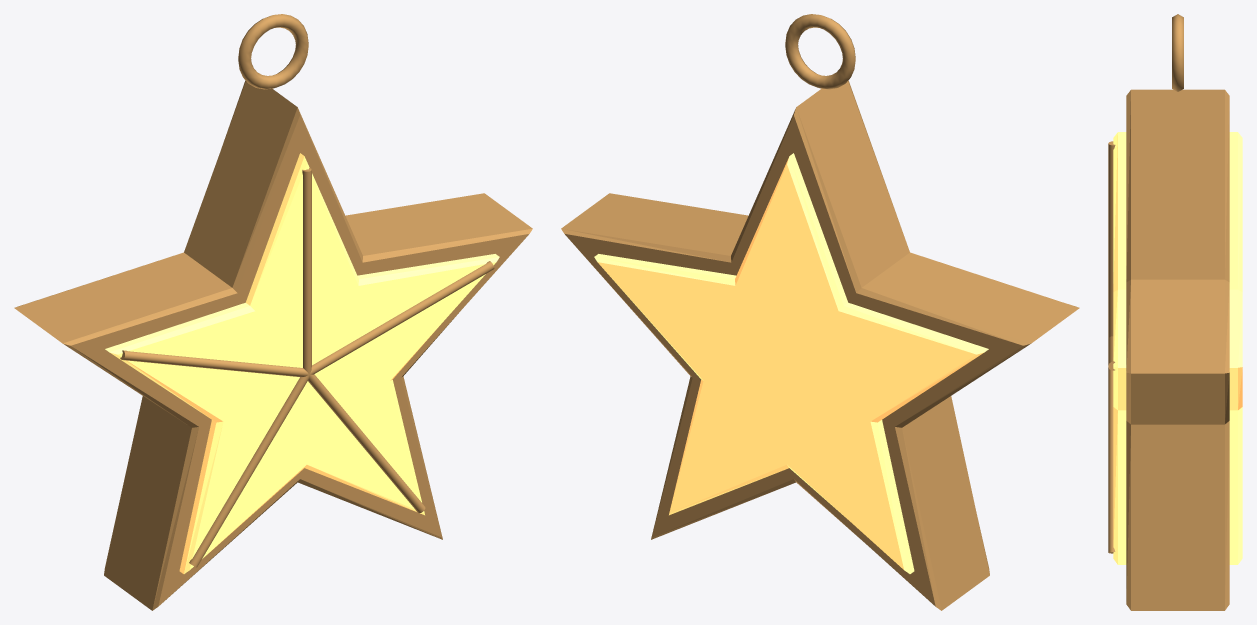
Rendered from storybook-christmas-market-moravian-star-lantern-29ab27e3.glb.
3 renders of one model, left to right at view 1: azimuth 30°, elevation 25°; view 2: azimuth 150°, elevation 25°; view 3: azimuth 270°, elevation 25°, orthographic. The views are drawn at different scales.
Visible parts, largest first — view 1: moravian-star-lantern; view 2: moravian-star-lantern; view 3: moravian-star-lantern.
Part boxes in pixels (x1,y1,x2,y2): moravian-star-lantern: (14,14,532,610); moravian-star-lantern: (561,14,1079,610); moravian-star-lantern: (1108,14,1242,610).
Size of the model in its own units: 0.8965 by 0.9883 by 0.2295.
